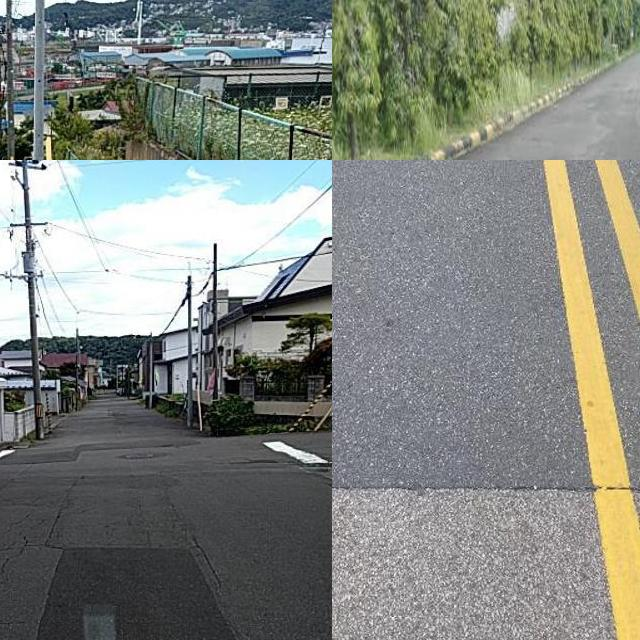Sambungan: (332, 160, 640, 505), (31, 547, 243, 640)
